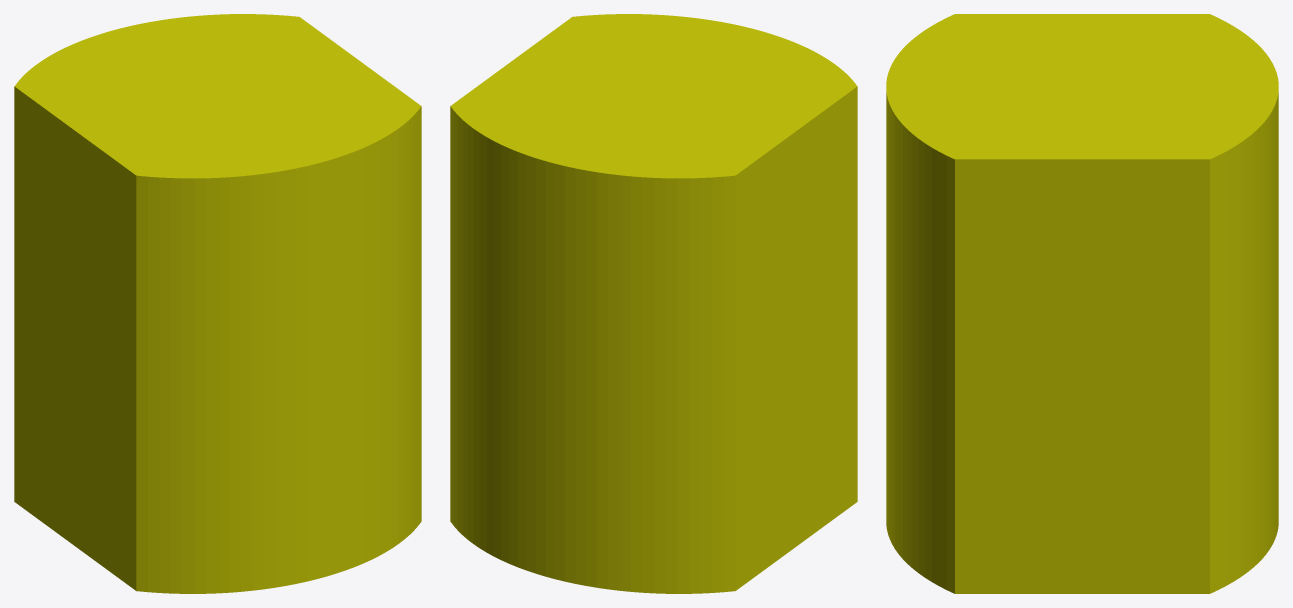
File: pendulum_robot_minimotor_3je3cn.dae
3 views of the same model, side by side, from view 1: azimuth 30°, elevation 25°; view 2: azimuth 150°, elevation 25°; view 3: azimuth 270°, elevation 25° (orthographic). The views are drawn at different scales.
Visible parts, largest first — view 1: node0; view 2: node0; view 3: node0.
Boxes of the visible parts, bbox=[...] form: node0: bbox=[14, 14, 421, 593]; node0: bbox=[450, 14, 857, 593]; node0: bbox=[886, 14, 1278, 593].
Size of the model in its own units: 0.0135 by 0.0154 by 0.0188.
